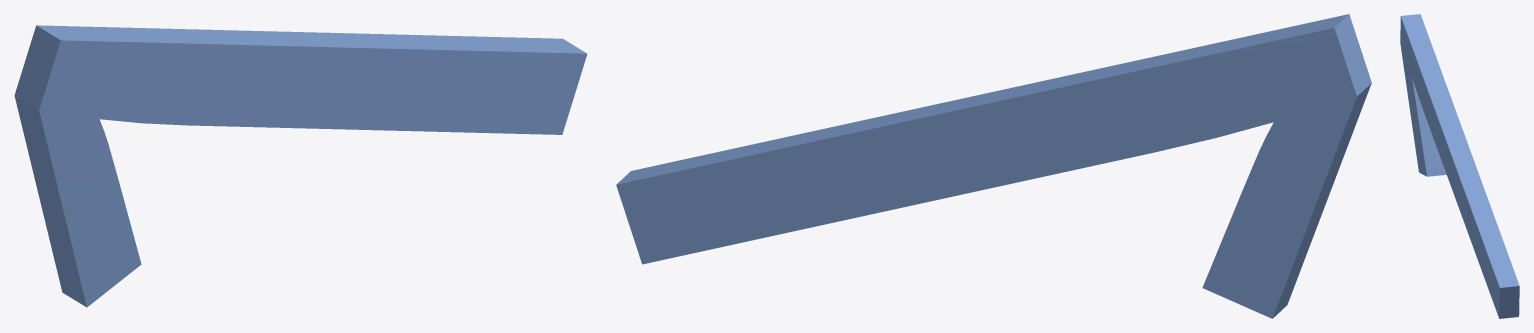
The model's file is New_Number_1.gltf.
The picture shows the model from 3 angles, left to right: view 1: azimuth 30°, elevation 25°; view 2: azimuth 150°, elevation 25°; view 3: azimuth 270°, elevation 25°; orthographic projection. The views are drawn at different scales.
Parts seen in each view (by area): view 1: Part 118; view 2: Part 118; view 3: Part 118.
Part boxes in pixels (x1,y1,x2,y2): Part 118: [14, 25, 587, 307]; Part 118: [616, 14, 1371, 318]; Part 118: [1400, 14, 1519, 318].
Bounding box in the file's own units: 0.00481 × 0.00222 × 0.00152.
